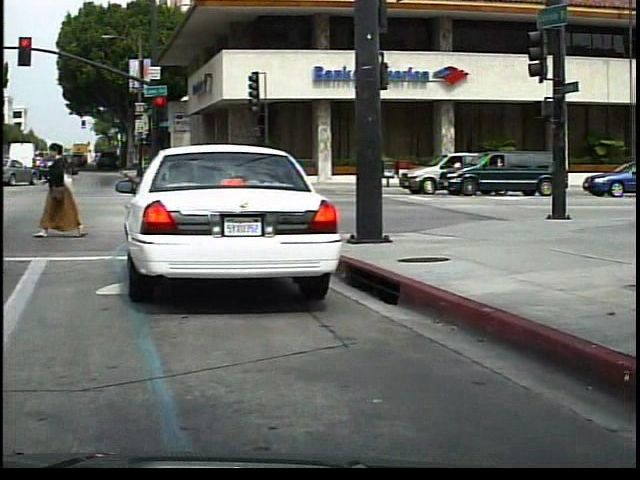person: (40, 137, 93, 242)
